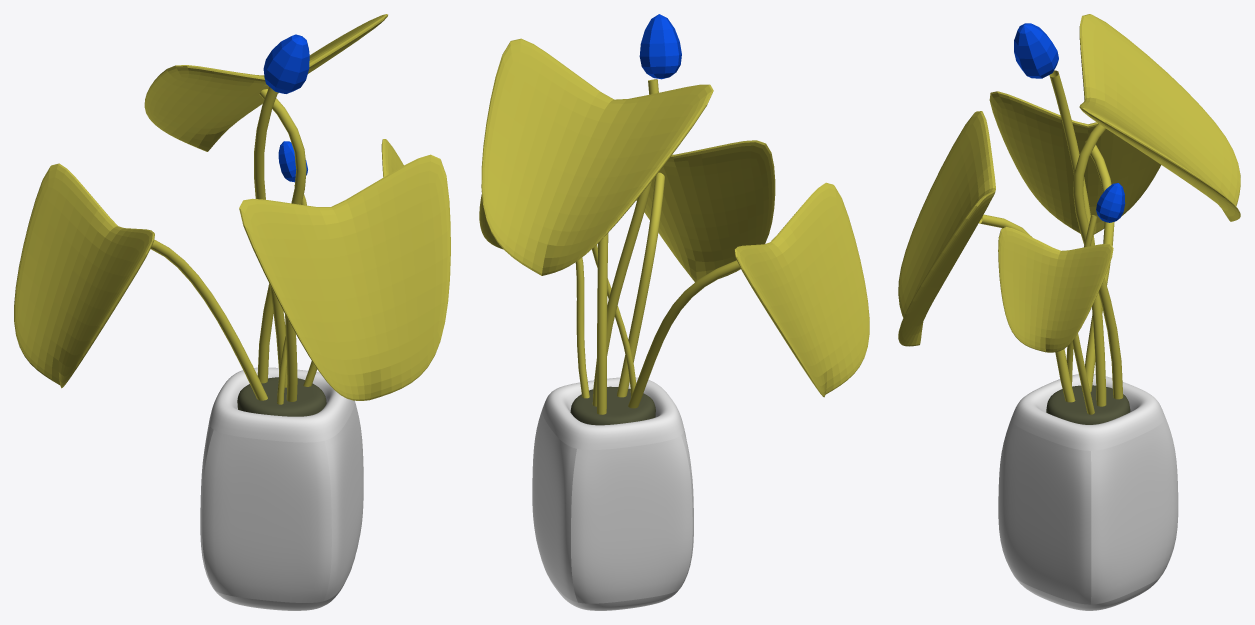
File: BIOSPLASH_PLANT.fbx
3 renders of one model, left to right at view 1: azimuth 30°, elevation 25°; view 2: azimuth 150°, elevation 25°; view 3: azimuth 270°, elevation 25°, orthographic. The views are drawn at different scales.
Visible parts, largest first — view 1: Cube.003, Cube, Cube.004, Cube.002, Cube.001, BézierCurve, BézierCurve.002, Sphere, BézierCurve.004, BézierCurve.001, Sphere.001; view 2: Cube.002, Cube, Cube.004, Cube.003, BézierCurve.001, Sphere, Cube.001, BézierCurve.002, BézierCurve.004, BézierCurve, BézierCurve.003, BézierCurve.005; view 3: Cube, Cube.002, Cube.003, Cube.004, Cube.005, BézierCurve, BézierCurve.004, Cube.001, Sphere, BézierCurve.002, BézierCurve.001, Sphere.001 (+1 smaller).
Boxes of the visible parts, <box> form: Cube.003: <box>239,154,450,400</box>; Cube: <box>200,367,363,610</box>; Cube.004: <box>14,163,154,388</box>; Cube.002: <box>144,14,387,151</box>; Cube.001: <box>237,377,326,416</box>; BézierCurve: <box>257,89,306,383</box>; BézierCurve.002: <box>150,239,267,400</box>; Sphere: <box>263,34,309,93</box>; BézierCurve.004: <box>254,87,287,387</box>; BézierCurve.001: <box>285,314,297,401</box>; Sphere.001: <box>278,141,307,182</box>; Cube.002: <box>481,38,713,275</box>; Cube: <box>532,377,693,610</box>; Cube.004: <box>734,182,869,397</box>; Cube.003: <box>636,140,775,282</box>; BézierCurve.001: <box>617,172,664,397</box>; Sphere: <box>639,14,681,79</box>; Cube.001: <box>570,386,655,425</box>; BézierCurve.002: <box>628,260,740,408</box>; BézierCurve.004: <box>592,79,658,406</box>; BézierCurve: <box>597,233,608,414</box>; BézierCurve.003: <box>575,257,589,398</box>; BézierCurve.005: <box>592,245,636,397</box>; Cube: <box>998,374,1178,610</box>; Cube.002: <box>1079,14,1240,221</box>; Cube.003: <box>898,111,995,346</box>; Cube.004: <box>989,91,1160,234</box>; Cube.005: <box>998,227,1113,352</box>; BézierCurve: <box>1073,123,1123,399</box>; BézierCurve.004: <box>1049,70,1106,406</box>; Cube.001: <box>1046,385,1130,424</box>; Sphere: <box>1014,23,1058,78</box>; BézierCurve.002: <box>1082,141,1114,391</box>; BézierCurve.001: <box>979,214,1075,402</box>; Sphere.001: <box>1096,183,1125,222</box>.
Size of the model in its own units: 0.8798 by 1.28 by 0.7128.
